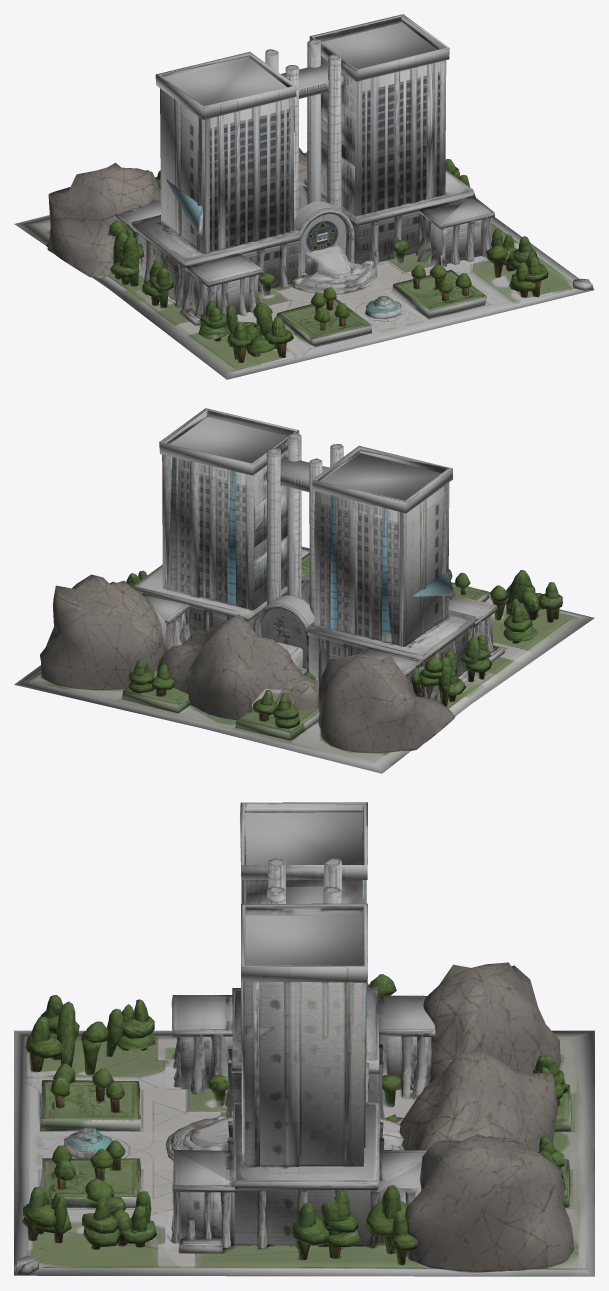
Rendered from courthouse.glb.
3 views of the same model, one above another, from view 1: azimuth 30°, elevation 25°; view 2: azimuth 150°, elevation 25°; view 3: azimuth 270°, elevation 25° (orthographic). The views are drawn at different scales.
Parts seen in each view (by area): view 1: mesh_node; view 2: mesh_node; view 3: mesh_node.
Boxes of the visible parts, left/top/right/bottom form: mesh_node: left=14, top=14, right=594, bottom=379; mesh_node: left=14, top=408, right=594, bottom=773; mesh_node: left=14, top=802, right=594, bottom=1276.
Size of the model in its own units: 1 by 0.541 by 1.
1 material, 1 textured.
